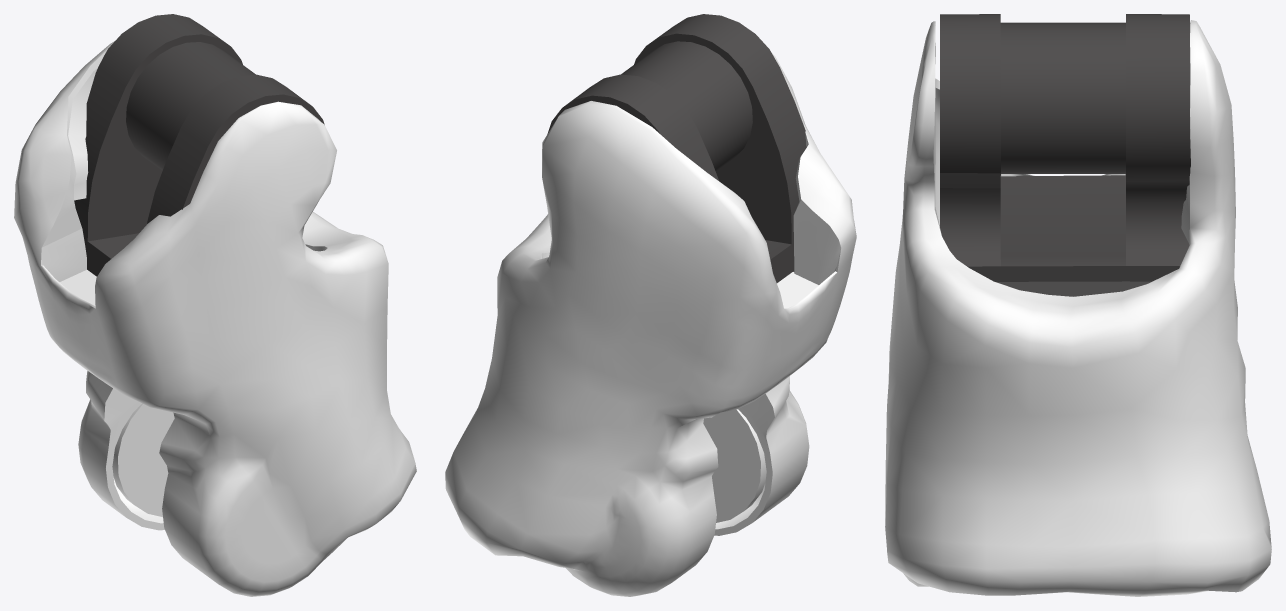
Rendered from LHipPitch.dae.
3 views of the same model, side by side, from view 1: azimuth 30°, elevation 25°; view 2: azimuth 150°, elevation 25°; view 3: azimuth 270°, elevation 25° (orthographic). The views are drawn at different scales.
Parts seen in each view (by area): view 1: LHipPitch; view 2: LHipPitch; view 3: LHipPitch.
Boxes of the visible parts, x1,y1,x2,y2 form: LHipPitch: [14, 14, 416, 596]; LHipPitch: [445, 14, 856, 596]; LHipPitch: [885, 14, 1271, 596].
Size of the model in its own units: 0.9585 by 0.8955 by 1.43.
Materials: 1 (1 with a texture image).
